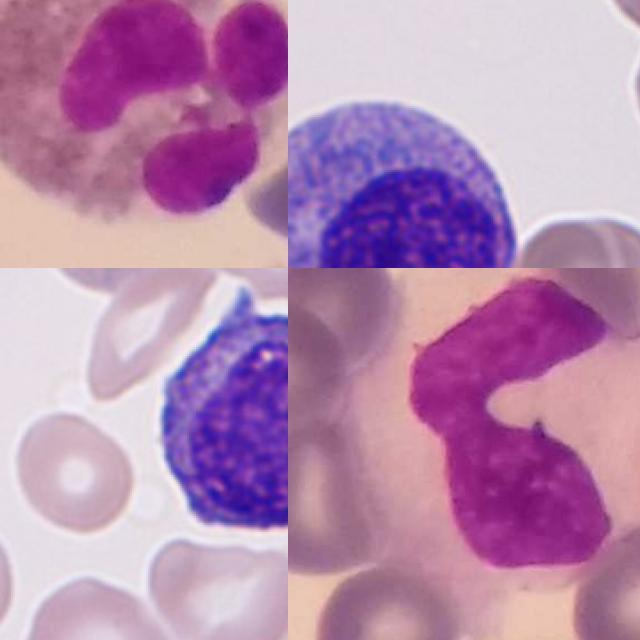Eosinophil: (0, 0, 288, 222)
Lymphocyte: (288, 76, 535, 268), (144, 281, 288, 555)
Monocyte: (351, 268, 640, 620)
RBC: (77, 268, 223, 403), (6, 404, 141, 537), (142, 535, 288, 640), (16, 569, 178, 640), (503, 209, 640, 268), (0, 496, 20, 640), (628, 21, 640, 156)
